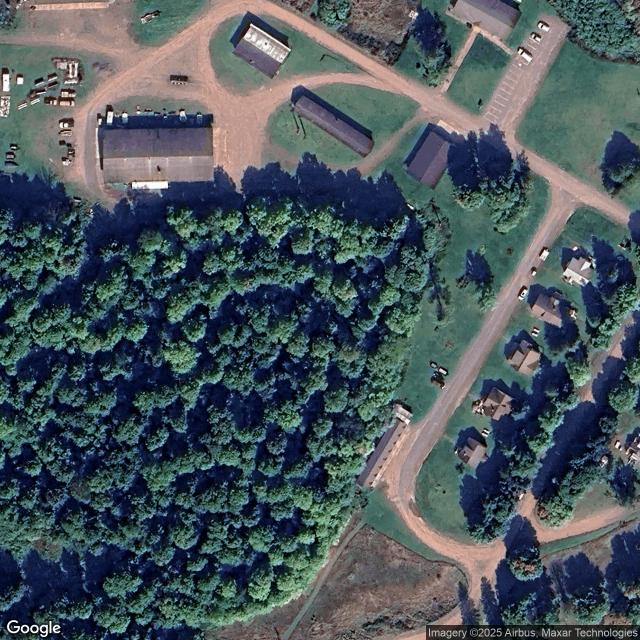Propane: (531, 332, 539, 338), (481, 432, 488, 437), (483, 429, 490, 434), (533, 328, 540, 333)
